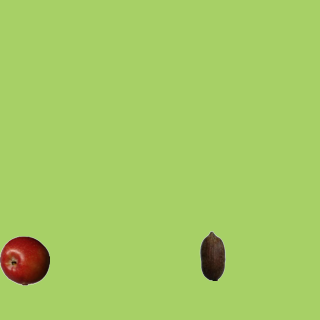Apple Braeburn: (0, 235, 49, 285)
Nut Pecan: (187, 230, 237, 280)
